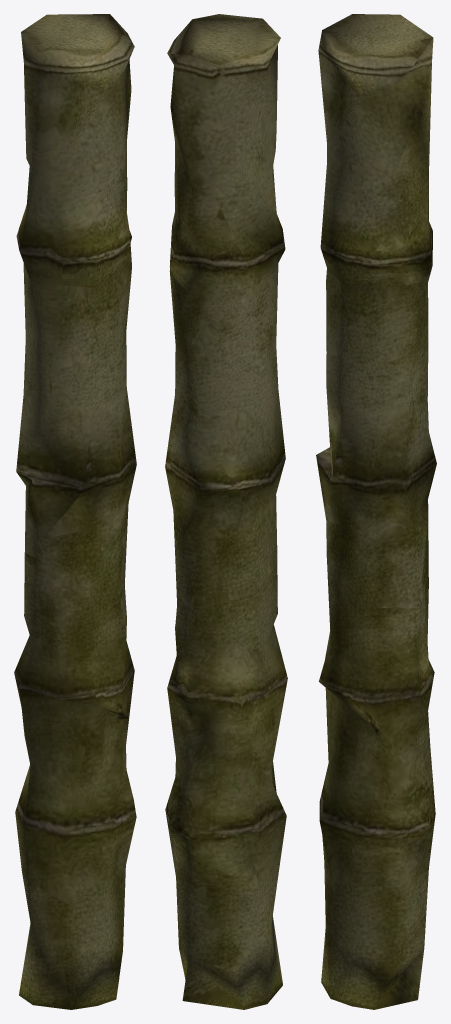
The model's file is bamboo-culm-mid.glb.
3 views of the same model, side by side, from view 1: azimuth 30°, elevation 25°; view 2: azimuth 210°, elevation 25°; view 3: azimuth 330°, elevation 25° (orthographic).
Visible parts, largest first — view 1: tripo_node_82ea9ea8-bfe4-479b-85bd-48143ca6d045; view 2: tripo_node_82ea9ea8-bfe4-479b-85bd-48143ca6d045; view 3: tripo_node_82ea9ea8-bfe4-479b-85bd-48143ca6d045.
Boxes of the visible parts, left/top/right/bottom form: tripo_node_82ea9ea8-bfe4-479b-85bd-48143ca6d045: left=14, top=14, right=136, bottom=1009; tripo_node_82ea9ea8-bfe4-479b-85bd-48143ca6d045: left=165, top=14, right=287, bottom=1009; tripo_node_82ea9ea8-bfe4-479b-85bd-48143ca6d045: left=316, top=14, right=436, bottom=1009.
Size of the model in its own units: 0.1219 by 0.9998 by 0.1073.
1 material, 1 textured.
